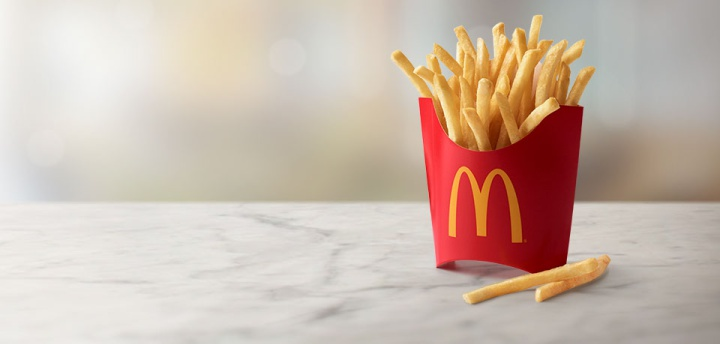mcdonalds: (442, 162, 525, 246)
